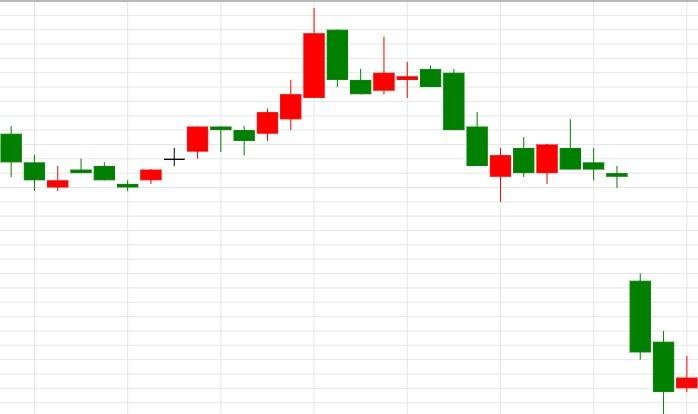evening_star_fall: (117, 126, 256, 191)
